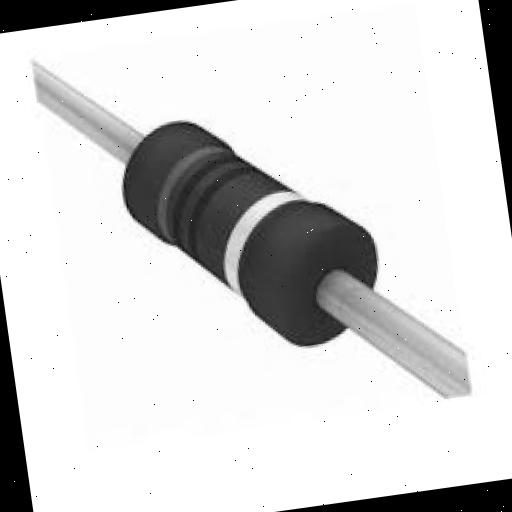RESISTOR: (25, 69, 428, 425)
